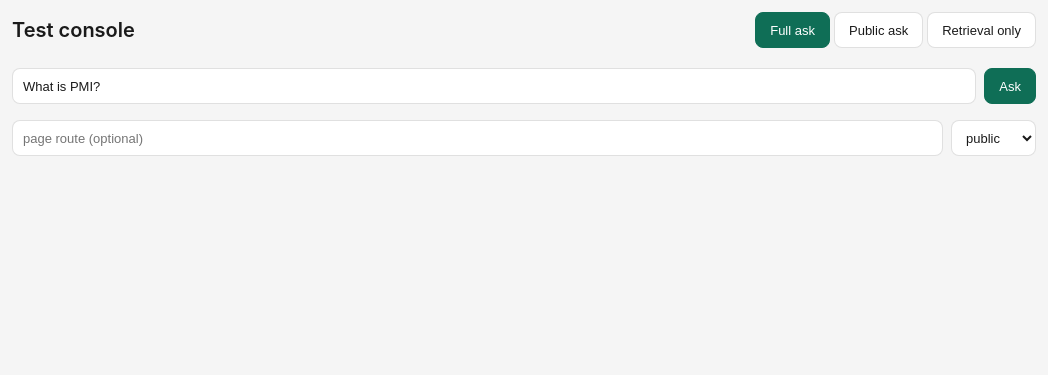
Test: TestConsole › shows public-mode API errors
This screenshot has width=1048, height=375.
Click the button "Public ask": (879, 30) 834,12 -> 923,48
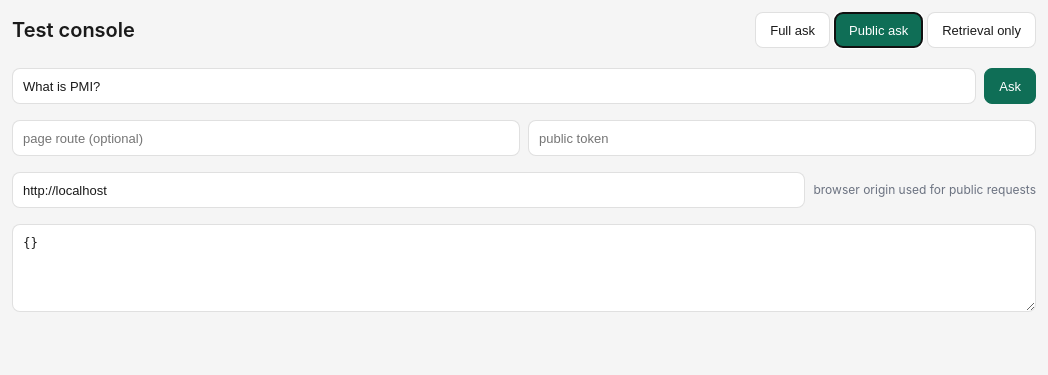
In the field with placeholder "public token": (782, 138) 528,120 -> 1036,156, type "pub_test_token"
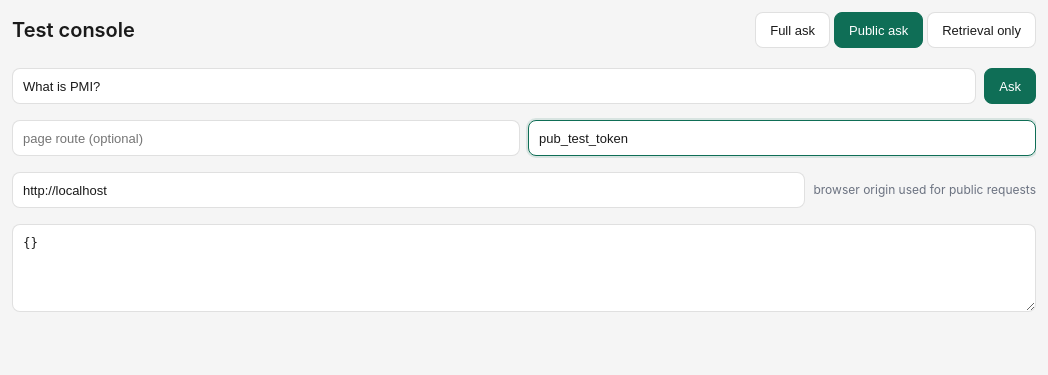
Click the button "Ask": (1010, 86) 984,68 -> 1036,104
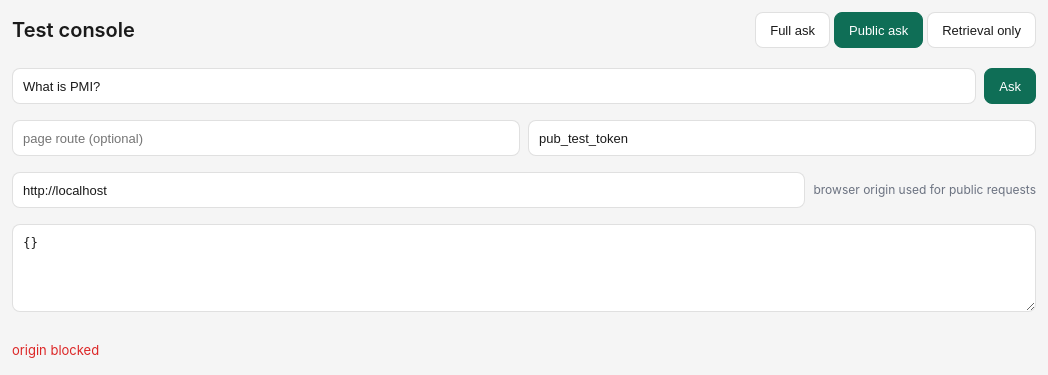
Expected: the text "origin blocked" is shown, 12,342 -> 99,358
